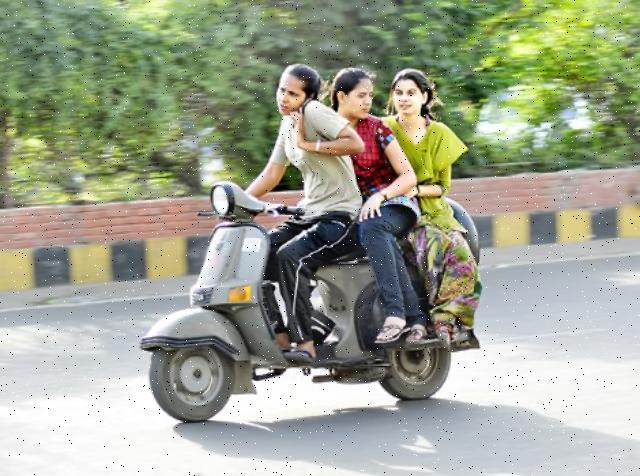Without Helmet: (327, 62, 373, 118), (274, 57, 318, 115), (388, 63, 428, 115)
